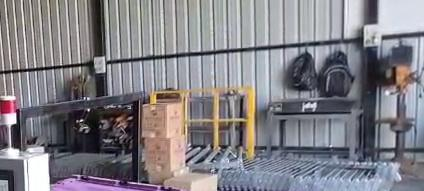box: (52, 177, 176, 190)
